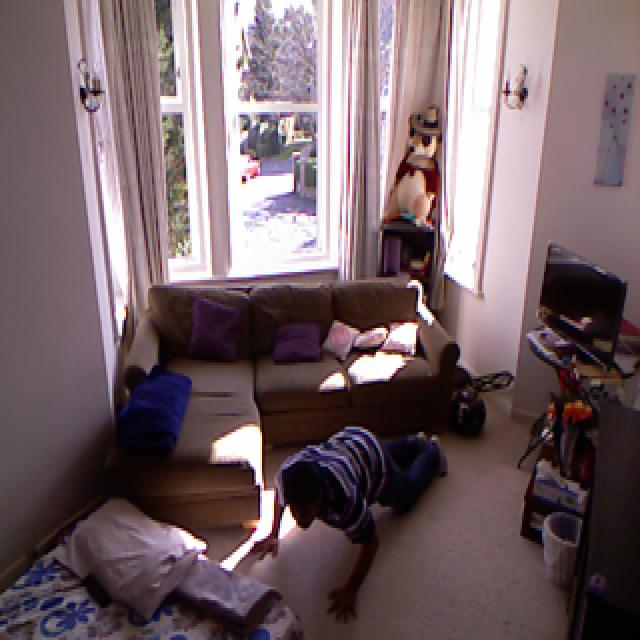crawling: (258, 421, 442, 600)
